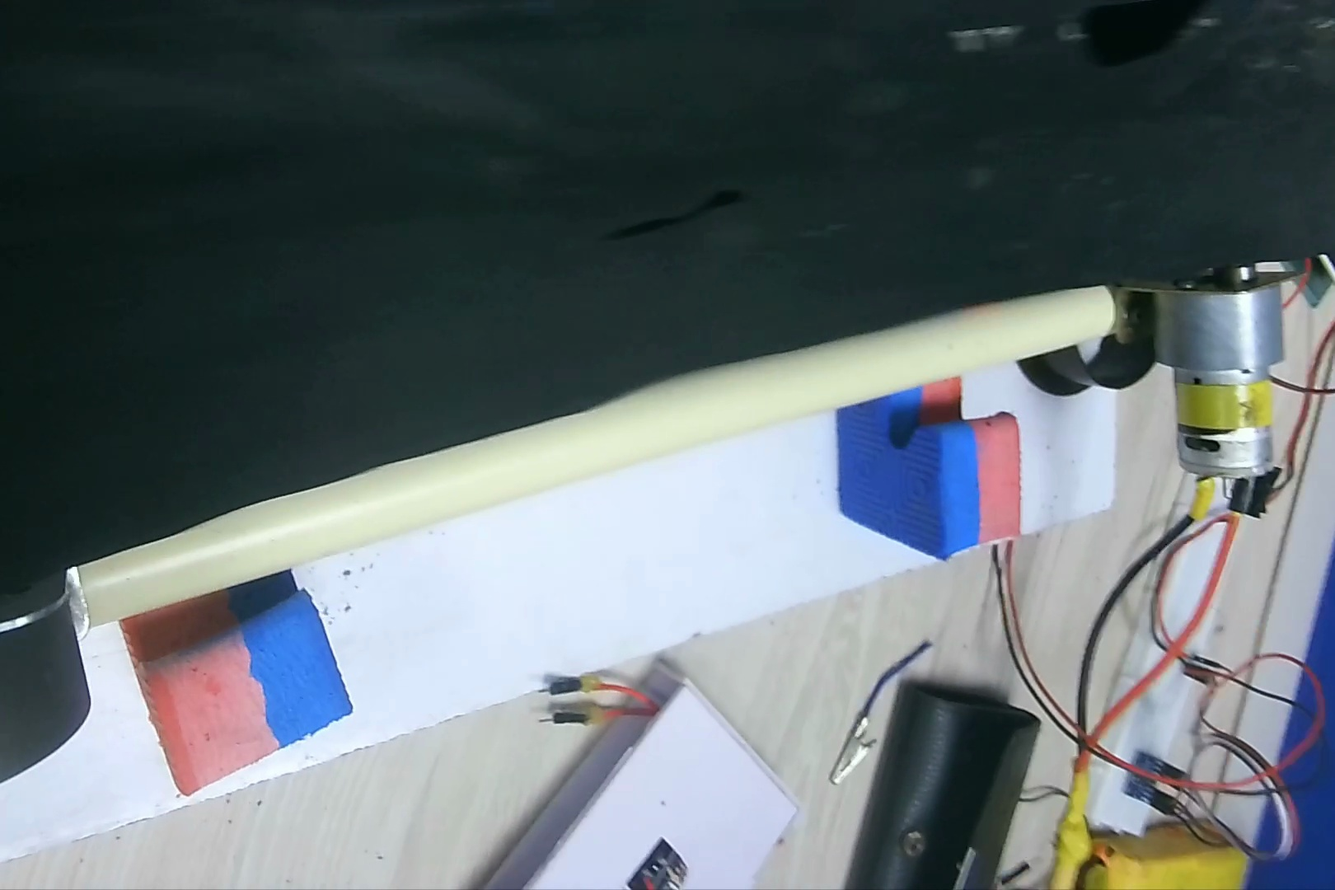hole: (1064, 2, 1249, 67)
tear: (602, 188, 756, 229)
